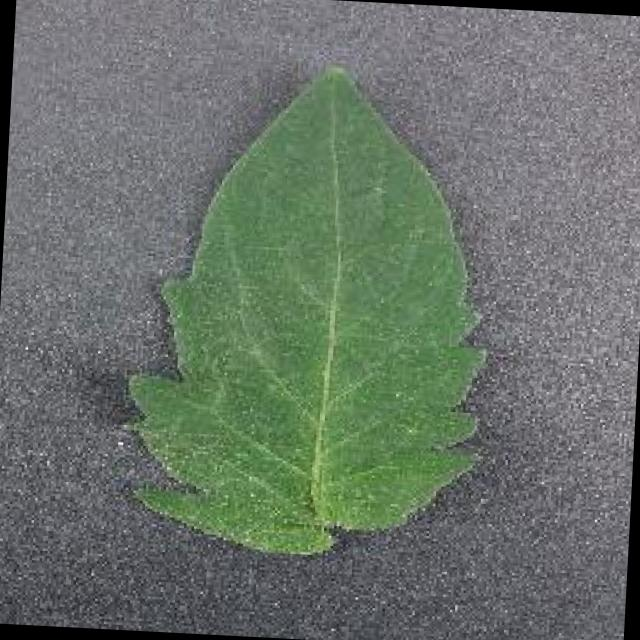Tomato_Healthy: (102, 45, 536, 572)
